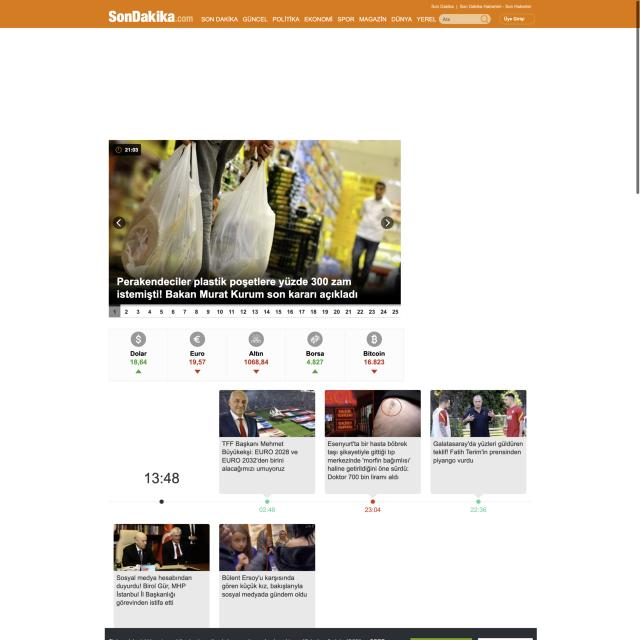input: (440, 13, 490, 24)
logo: (106, 7, 196, 26)
navigation: (200, 14, 438, 25), (427, 1, 535, 10)
